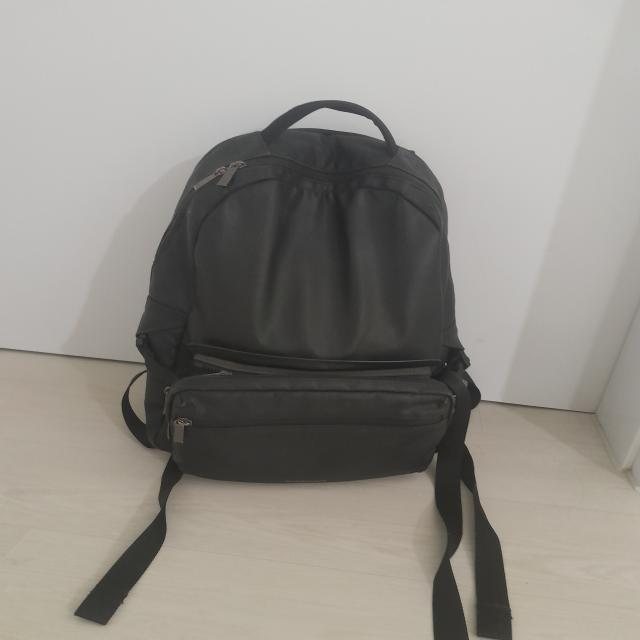backpack: (74, 94, 509, 640)
